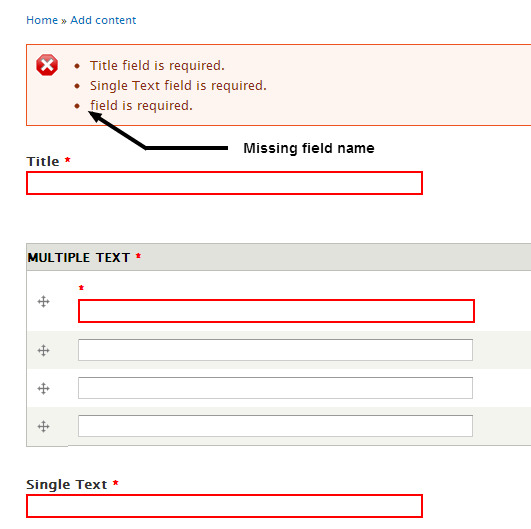error_field: (24, 170, 424, 196), (25, 493, 425, 519), (77, 298, 475, 324)
error_message: (89, 58, 268, 111)
